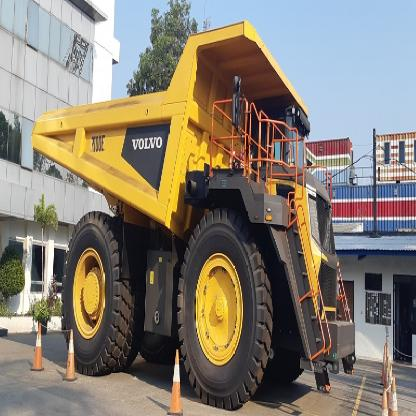dump_truck: (25, 15, 359, 404)
